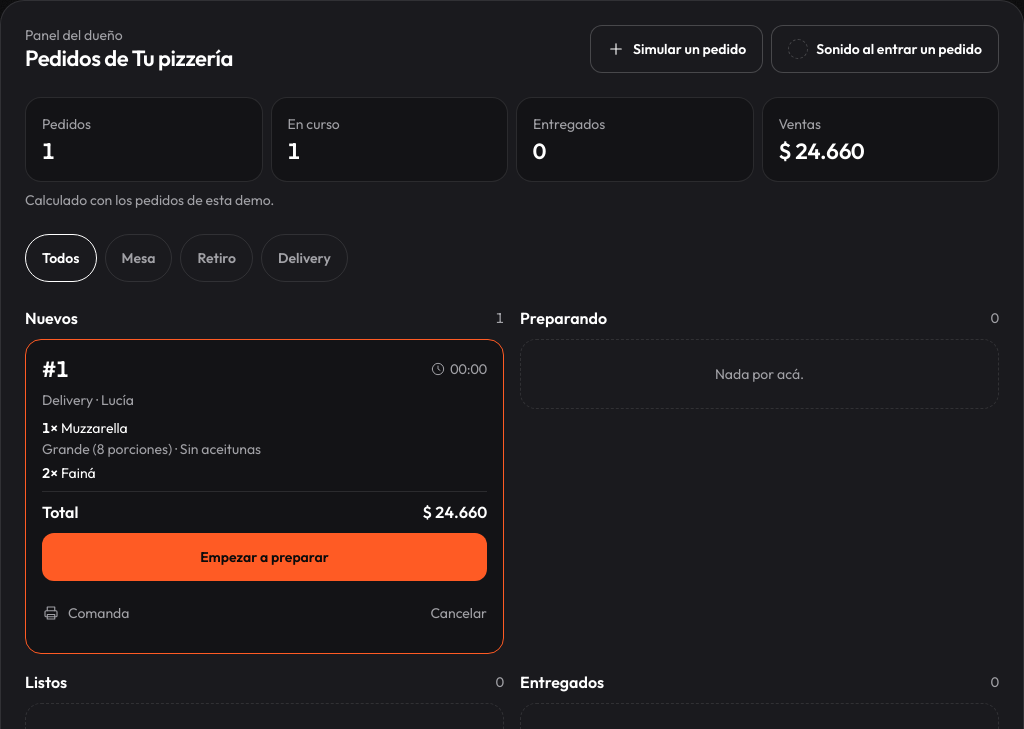
Scenario: PanelDuenio + DemoCliente: sincronización cliente ↔ dueño › cancelar manda el pedido a terminados
Click the button with aria-label "Cancelar el pedido #1" at (459, 613), box [422,589,495,637]
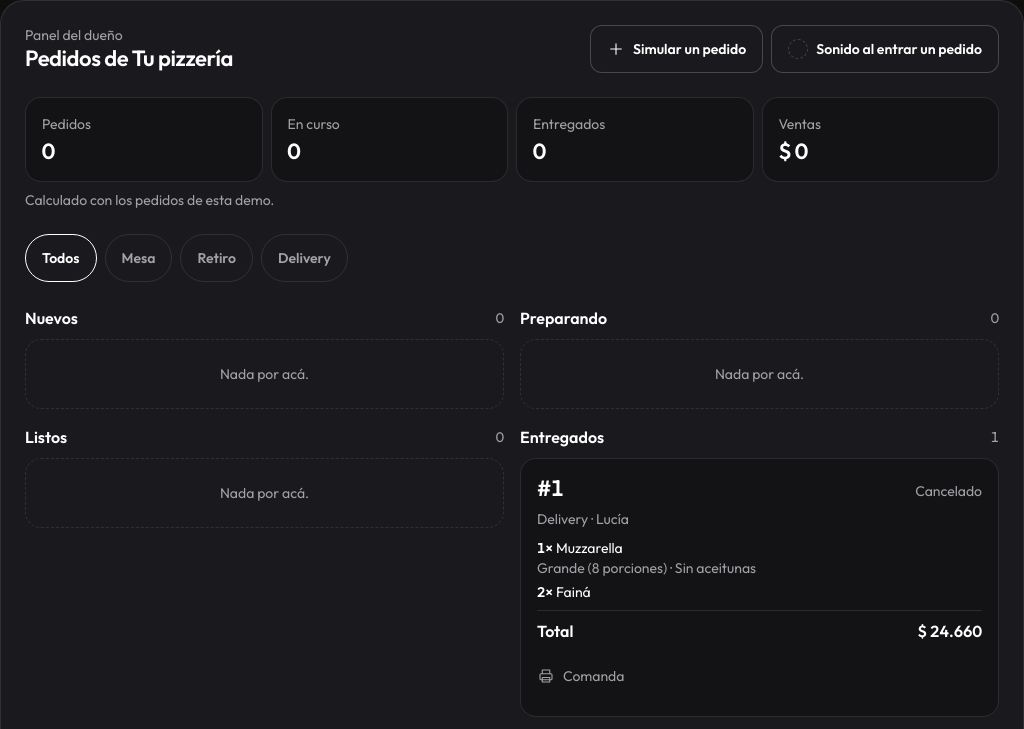
Expected: the element "#1" shows "Cancelado", [915,482,982,500]
